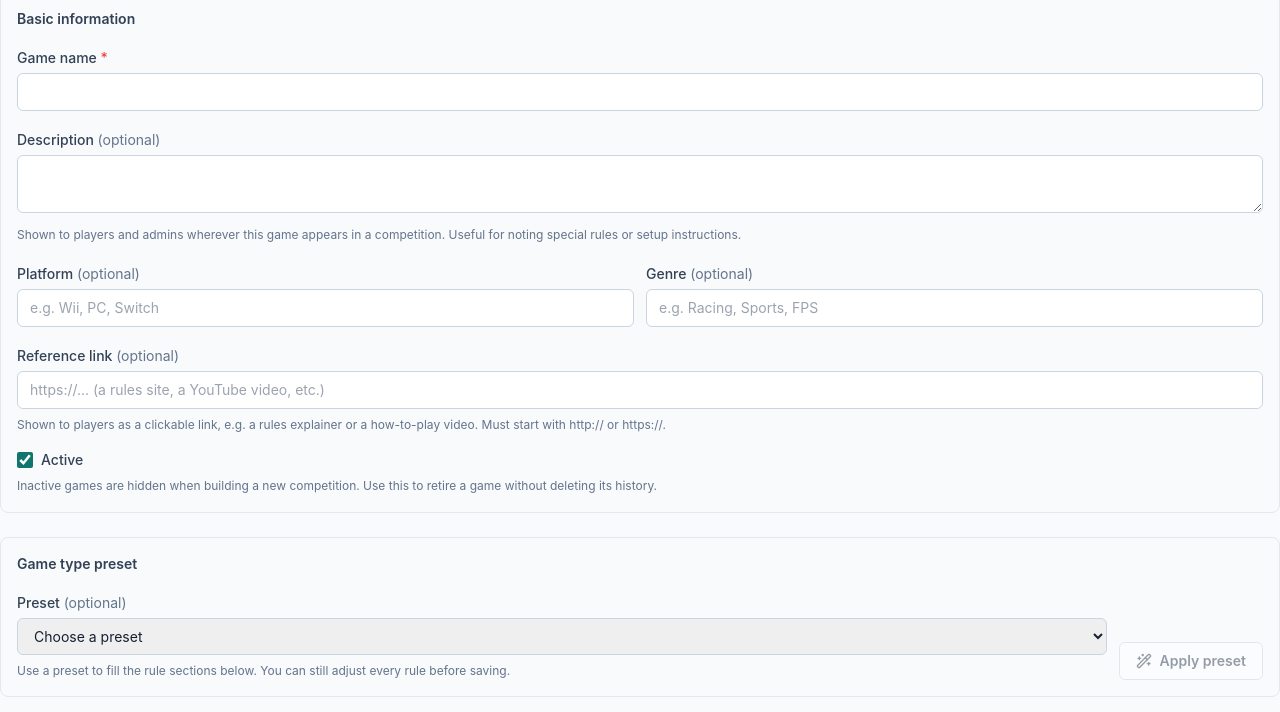
Scenario: GameForm › resets scoring sub-fields when scoring type changes
Step 1. Type "Bowling" into the field labelled "Game name *" → (640, 92), box [17,73,1263,111]
(page scrolled)
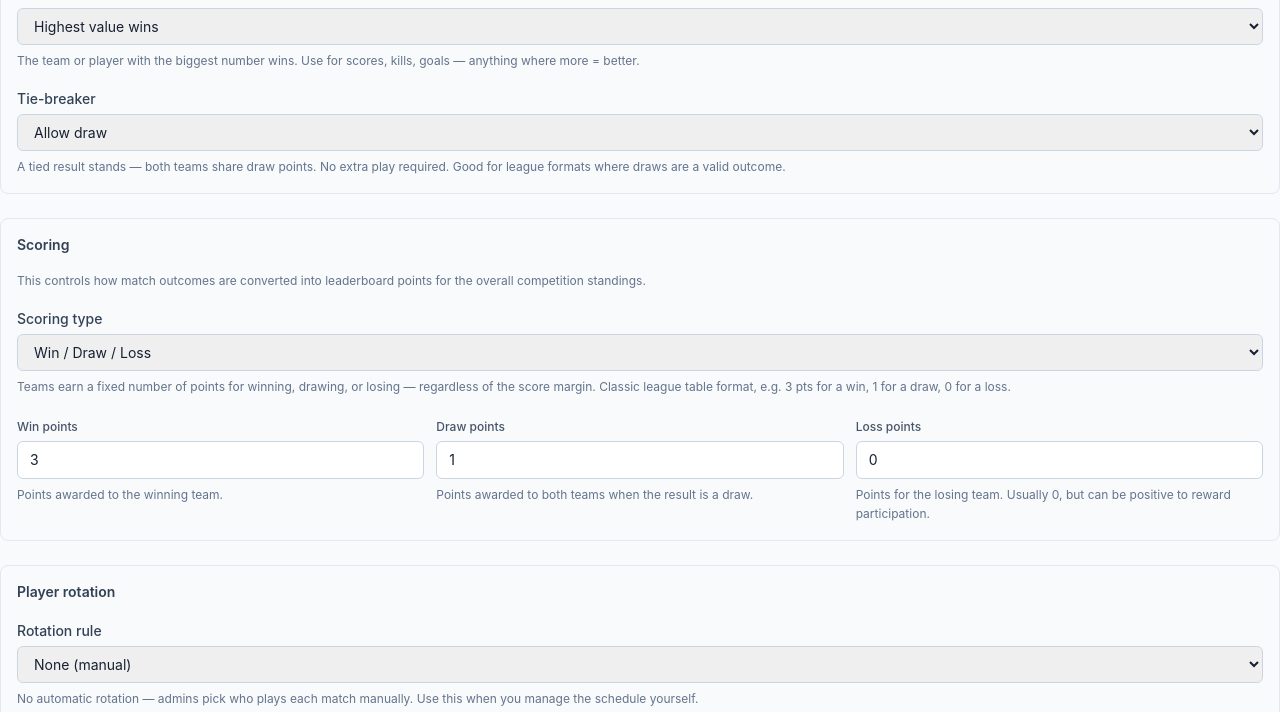
Step 2. Select "Winner takes all" in the dropdown labelled "Scoring type" → (640, 352), box [17,334,1263,371]
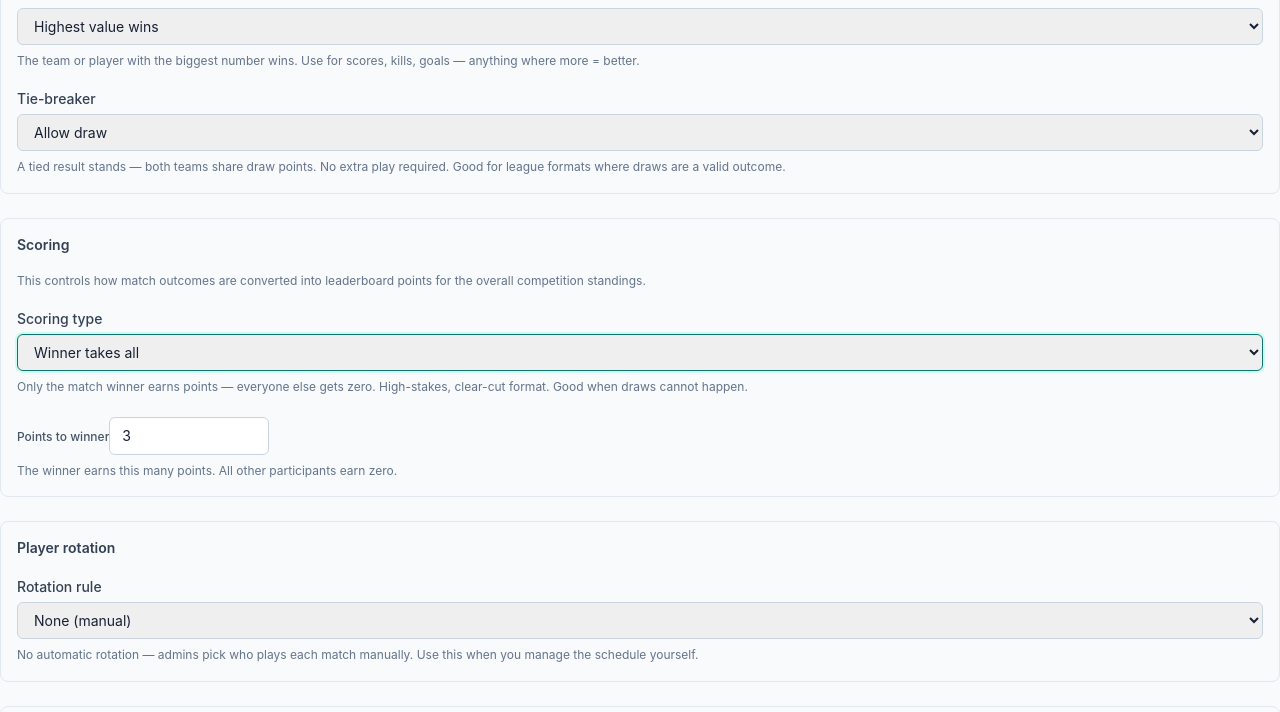
Expected: the number field labelled "Points to winner" is shown, [109,416,269,454]
Expected: the text labelled "Win points" is gone
